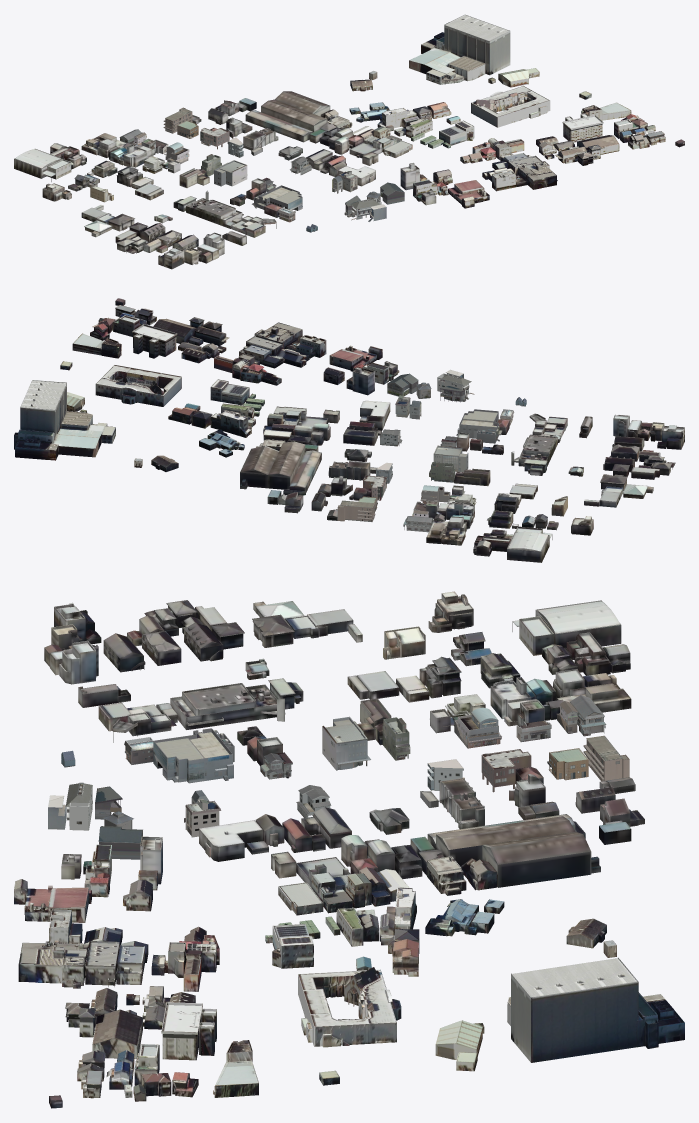
Rendered from 2023-lod3-station-1-1-packed.glb.
3 renders of one model, top to bottom at view 1: azimuth 30°, elevation 25°; view 2: azimuth 150°, elevation 25°; view 3: azimuth 270°, elevation 25°, orthographic. The views are drawn at different scales.
Bounding box in the file's own units: 459 × 29.3 × 260.
Materials: 10 (8 with a texture image).
